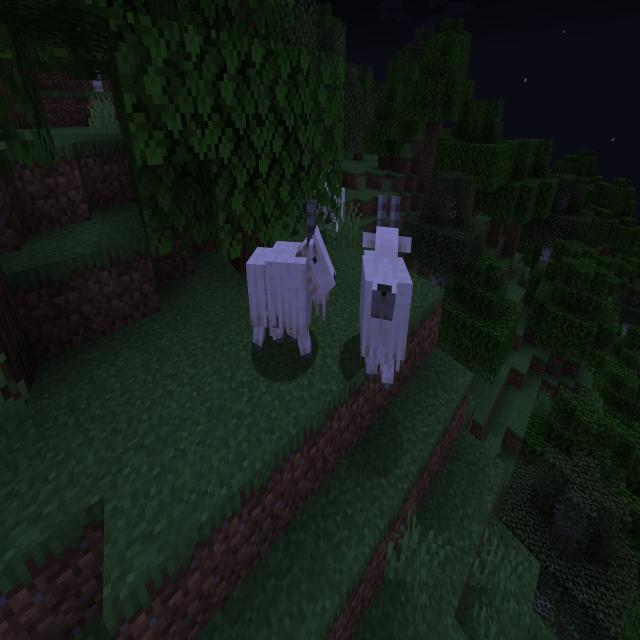Goat: (244, 196, 338, 371), (356, 190, 414, 397)
